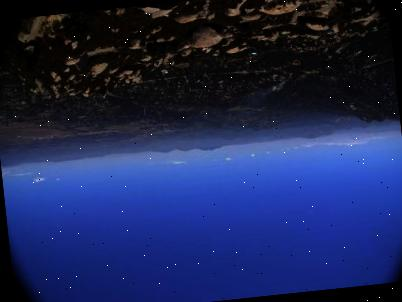smoke: (249, 81, 286, 105)
